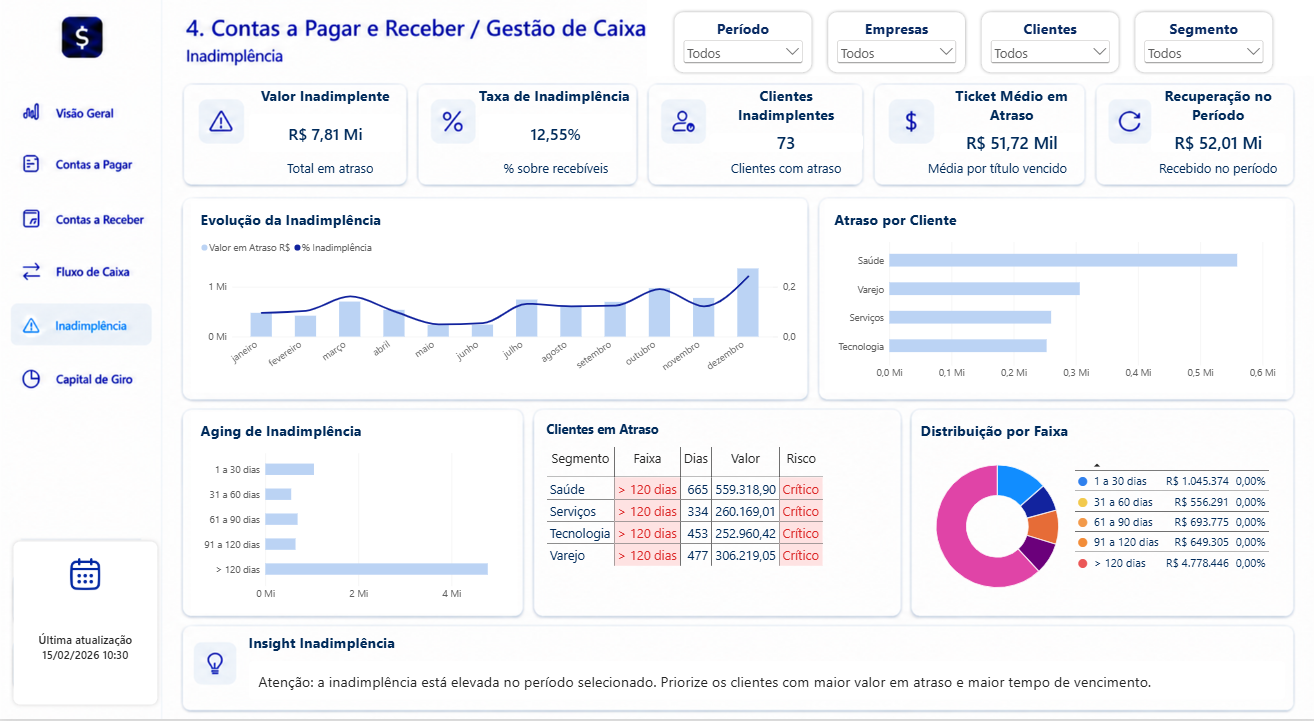

The page's visual inventory and layout, read from the dashboard file:
{"tool":"powerbi","page":{"name":"Inadimplência","canvas":[2200,1200],"ordinal":4},"visuals":[{"type":"actionButton","box":[16,608,240,64],"z":0},{"type":"actionButton","box":[16,416,240,64],"z":1000},{"type":"actionButton","box":[16,336,240,64],"z":2000},{"type":"actionButton","box":[16,240,240,64],"z":3000},{"type":"actionButton","box":[16,160,240,64],"z":4000},{"type":"shape","box":[1080,0,1120,128],"z":5000},{"type":"shape","box":[1120,16,240,112],"z":6000},{"type":"shape","box":[1376,16,240,112],"z":7000},{"type":"shape","box":[1632,16,240,112],"z":8000},{"type":"shape","box":[1888,16,240,112],"z":9000},{"type":"textbox","box":[1168,32,144,48],"z":10000},{"type":"textbox","box":[1680,32,144,48],"z":11000},{"type":"textbox","box":[1424,32,144,48],"z":12000},{"type":"textbox","box":[1904,32,208,48],"z":13000},{"type":"slicer","fields":{"Values":["dCalendario.Mes_Ano_Eixo"]},"box":[1136,64,208,48],"z":14000},{"type":"slicer","fields":{"Values":["dEmpresas.Empresa"]},"box":[1392,64,208,48],"z":15000},{"type":"slicer","fields":{"Values":["dClientes.Cliente"]},"box":[1648,64,208,48],"z":16000},{"type":"slicer","fields":{"Values":["dClientes.Segmento"]},"box":[1904,64,208,48],"z":17000},{"type":"cardVisual","title":"Valor Inadimplente","fields":{"Data":["Medidas Inadimplência.Texto INAD Valor Inadimplente"]},"box":[416,144,256,112],"z":18000},{"type":"cardVisual","title":"Taxa de Inadimplência","fields":{"Data":["Medidas Inadimplência.Texto INAD Taxa de Inadimplência"]},"box":[800,144,256,112],"z":19000},{"type":"cardVisual","title":"Clientes Inadimplentes","fields":{"Data":["Medidas Inadimplência.Texto INAD Clientes Inadimplentes"]},"box":[1184,144,256,112],"z":20000},{"type":"cardVisual","title":"Ticket Médio em Atraso","fields":{"Data":["Medidas Inadimplência.Texto INAD Ticket Médio em Atraso"]},"box":[1568,144,240,112],"z":21000},{"type":"cardVisual","title":"Recuperação no Período","fields":{"Data":["Medidas Inadimplência.Texto INAD Recuperação no Período"]},"box":[1920,144,224,112],"z":22000},{"type":"cardVisual","fields":{"Data":["Medidas Inadimplência.Subtexto INAD Valor Inadimplente"]},"box":[432,256,240,48],"z":23000},{"type":"cardVisual","fields":{"Data":["Medidas Inadimplência.Subtexto INAD Taxa de Inadimplência"]},"box":[800,256,256,48],"z":24000},{"type":"cardVisual","fields":{"Data":["Medidas Inadimplência.Subtexto INAD Clientes Inadimplentes"]},"box":[1184,256,256,48],"z":25000},{"type":"cardVisual","fields":{"Data":["Medidas Inadimplência.Subtexto INAD Ticket Médio em Atraso"]},"box":[1520,256,288,48],"z":26000},{"type":"cardVisual","fields":{"Data":["Medidas Inadimplência.Subtexto INAD Recuperação no Período"]},"box":[1904,256,256,48],"z":27000},{"type":"lineClusteredColumnComboChart","title":"Evolução da Inadimplência","fields":{"Y":["Medidas Inadimplência.INAD Valor em Atraso R$"],"Y2":["Medidas Inadimplência.INAD % Inadimplência"],"Category":["dCalendario.Ano_Mes.Variation.Hierarquia de datas.Mês"]},"box":[320,336,1024,320],"z":28000},{"type":"clusteredBarChart","title":"Atraso por Cliente","fields":{"Y":["Medidas Inadimplência.INAD Valor em Atraso por Cliente"],"Category":["dClientes.Segmento"]},"box":[1376,336,768,320],"z":29000},{"type":"clusteredBarChart","title":"Aging de Inadimplência","fields":{"Category":["dFaixaAgingINAD.Faixa"],"Y":["Medidas Inadimplência.INAD Valor Aging"]},"box":[320,688,544,336],"z":30000},{"type":"tableEx","title":"Clientes em Atraso","fields":{"Values":["dClientes.Segmento","Medidas Inadimplência.INAD Faixa Cliente","Medidas Inadimplência.INAD Dias em Atraso Cliente","Medidas Inadimplência.INAD Valor em Atraso por Cliente","Medidas Inadimplência.INAD Risco Cliente"]},"box":[896,688,608,336],"z":31000},{"type":"donutChart","title":"Distribuição por Faixa","fields":{"Category":["dFaixaAgingINAD.Faixa"],"Y":["Medidas Inadimplência.INAD Valor Distribuição Faixa"]},"box":[1520,688,288,336],"z":32000},{"type":"tableEx","fields":{"Values":["Medidas Inadimplência.Bolinha Faixa INAD","dFaixaAgingINAD.Faixa","Medidas Inadimplência.INAD Valor Distribuição Faixa","Medidas Inadimplência.INAD % Distribuição Faixa"]},"box":[1776,736,368,240],"z":33000},{"type":"cardVisual","title":"Insight Inadimplência","fields":{"Data":["Medidas Inadimplência.Insight Inadimplência"]},"box":[416,1056,1728,112],"z":34000},{"type":"shape","box":[16,896,256,288],"z":35000},{"type":"image","box":[80,928,128,64],"z":36000},{"type":"cardVisual","fields":{"Data":["Medidas Inadimplência.Texto INAD Última Atualização"]},"box":[32,1008,224,144],"z":37000}]}

Visuals, with their boxes on the page's 2200x1200 design canvas (x1, y1, x2, y2). These are canvas units, not pixel positions in the 1314x721 screenshot, which may show the page scaled, cropped or inside an application window:
actionButton: left=16, top=608, right=256, bottom=672
actionButton: left=16, top=416, right=256, bottom=480
actionButton: left=16, top=336, right=256, bottom=400
actionButton: left=16, top=240, right=256, bottom=304
actionButton: left=16, top=160, right=256, bottom=224
shape: left=1080, top=0, right=2200, bottom=128
shape: left=1120, top=16, right=1360, bottom=128
shape: left=1376, top=16, right=1616, bottom=128
shape: left=1632, top=16, right=1872, bottom=128
shape: left=1888, top=16, right=2128, bottom=128
textbox: left=1168, top=32, right=1312, bottom=80
textbox: left=1680, top=32, right=1824, bottom=80
textbox: left=1424, top=32, right=1568, bottom=80
textbox: left=1904, top=32, right=2112, bottom=80
slicer - dCalendario.Mes_Ano_Eixo: left=1136, top=64, right=1344, bottom=112
slicer - dEmpresas.Empresa: left=1392, top=64, right=1600, bottom=112
slicer - dClientes.Cliente: left=1648, top=64, right=1856, bottom=112
slicer - dClientes.Segmento: left=1904, top=64, right=2112, bottom=112
"Valor Inadimplente" cardVisual: left=416, top=144, right=672, bottom=256
"Taxa de Inadimplência" cardVisual: left=800, top=144, right=1056, bottom=256
"Clientes Inadimplentes" cardVisual: left=1184, top=144, right=1440, bottom=256
"Ticket Médio em Atraso" cardVisual: left=1568, top=144, right=1808, bottom=256
"Recuperação no Período" cardVisual: left=1920, top=144, right=2144, bottom=256
cardVisual - Medidas Inadimplência.Subtexto INAD Valor Inadimplente: left=432, top=256, right=672, bottom=304
cardVisual - Medidas Inadimplência.Subtexto INAD Taxa de Inadimplência: left=800, top=256, right=1056, bottom=304
cardVisual - Medidas Inadimplência.Subtexto INAD Clientes Inadimplentes: left=1184, top=256, right=1440, bottom=304
cardVisual - Medidas Inadimplência.Subtexto INAD Ticket Médio em Atraso: left=1520, top=256, right=1808, bottom=304
cardVisual - Medidas Inadimplência.Subtexto INAD Recuperação no Período: left=1904, top=256, right=2160, bottom=304
"Evolução da Inadimplência" lineClusteredColumnComboChart: left=320, top=336, right=1344, bottom=656
"Atraso por Cliente" clusteredBarChart: left=1376, top=336, right=2144, bottom=656
"Aging de Inadimplência" clusteredBarChart: left=320, top=688, right=864, bottom=1024
"Clientes em Atraso" tableEx: left=896, top=688, right=1504, bottom=1024
"Distribuição por Faixa" donutChart: left=1520, top=688, right=1808, bottom=1024
tableEx - Medidas Inadimplência.Bolinha Faixa INAD x dFaixaAgingINAD.Faixa: left=1776, top=736, right=2144, bottom=976
"Insight Inadimplência" cardVisual: left=416, top=1056, right=2144, bottom=1168
shape: left=16, top=896, right=272, bottom=1184
image: left=80, top=928, right=208, bottom=992
cardVisual - Medidas Inadimplência.Texto INAD Última Atualização: left=32, top=1008, right=256, bottom=1152
